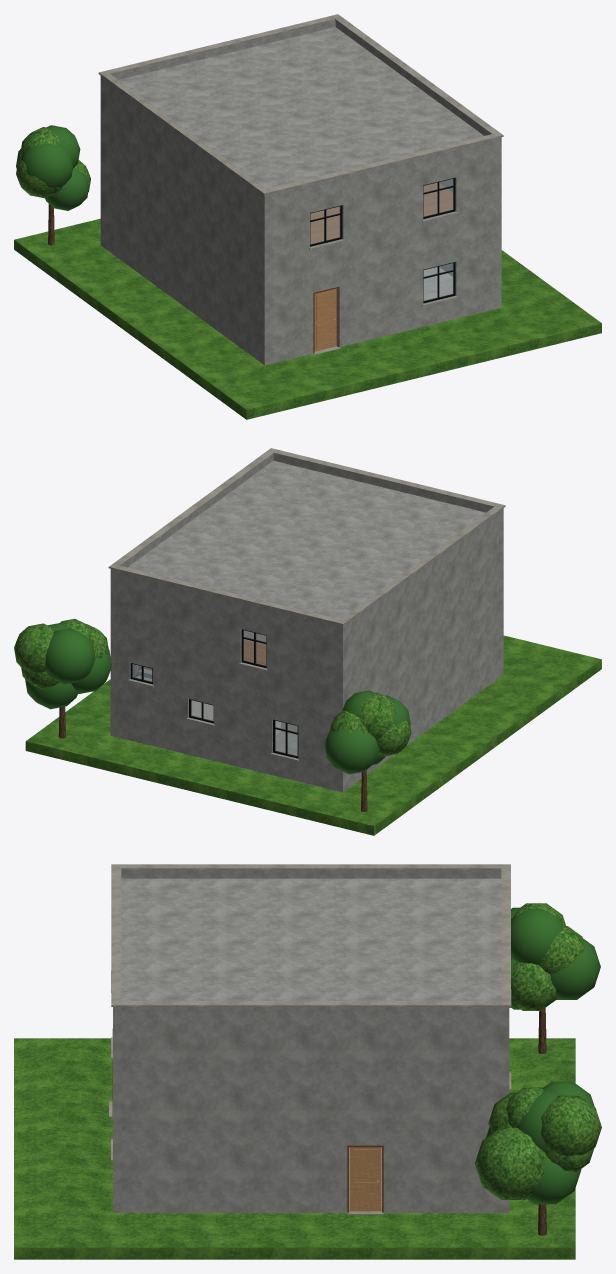
The model's file is b_concrete_minimal.gltf.
The picture shows the model from 3 angles, top to bottom: view 1: azimuth 30°, elevation 25°; view 2: azimuth 150°, elevation 25°; view 3: azimuth 270°, elevation 25°; orthographic projection. The views are drawn at different scales.
Parts seen in each view (by area): view 1: S_concrete_minimal, D_concrete_minimal_F1_S1_Door0; view 2: S_concrete_minimal; view 3: S_concrete_minimal, D_concrete_minimal_F1_E0_Door0.
Boxes of the visible parts, x1,y1,x2,y2 form: S_concrete_minimal: (14,14,601,419); D_concrete_minimal_F1_S1_Door0: (314,288,336,351); S_concrete_minimal: (14,448,601,835); S_concrete_minimal: (14,864,601,1259); D_concrete_minimal_F1_E0_Door0: (349,1147,381,1211).
Size of the model in its own units: 16.37 by 7.36 by 17.8.
19 materials, 12 textured.
